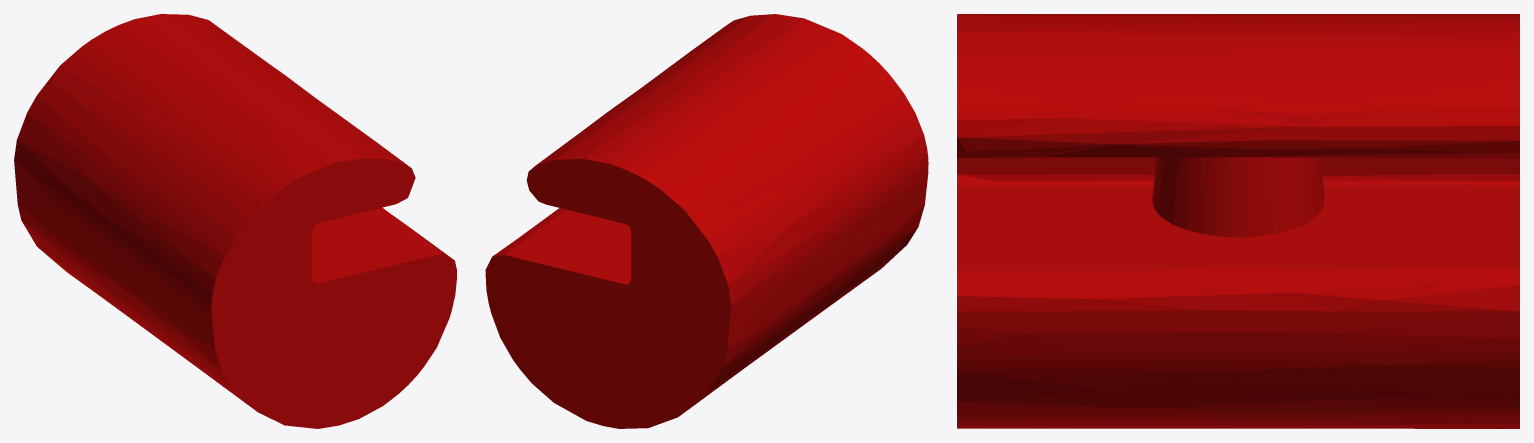
Rendered from tilting_hokuyo.gltf.
The picture shows the model from 3 angles, left to right: view 1: azimuth 30°, elevation 25°; view 2: azimuth 150°, elevation 25°; view 3: azimuth 270°, elevation 25°; orthographic projection. The views are drawn at different scales.
Parts seen in each view (by area): view 1: Node; view 2: Node; view 3: Node.
Boxes of the visible parts, x1,y1,x2,y2 form: Node: (14, 14, 456, 428); Node: (485, 14, 928, 428); Node: (957, 14, 1519, 428).
Size of the model in its own units: 0.117 by 0.1202 by 0.163.
